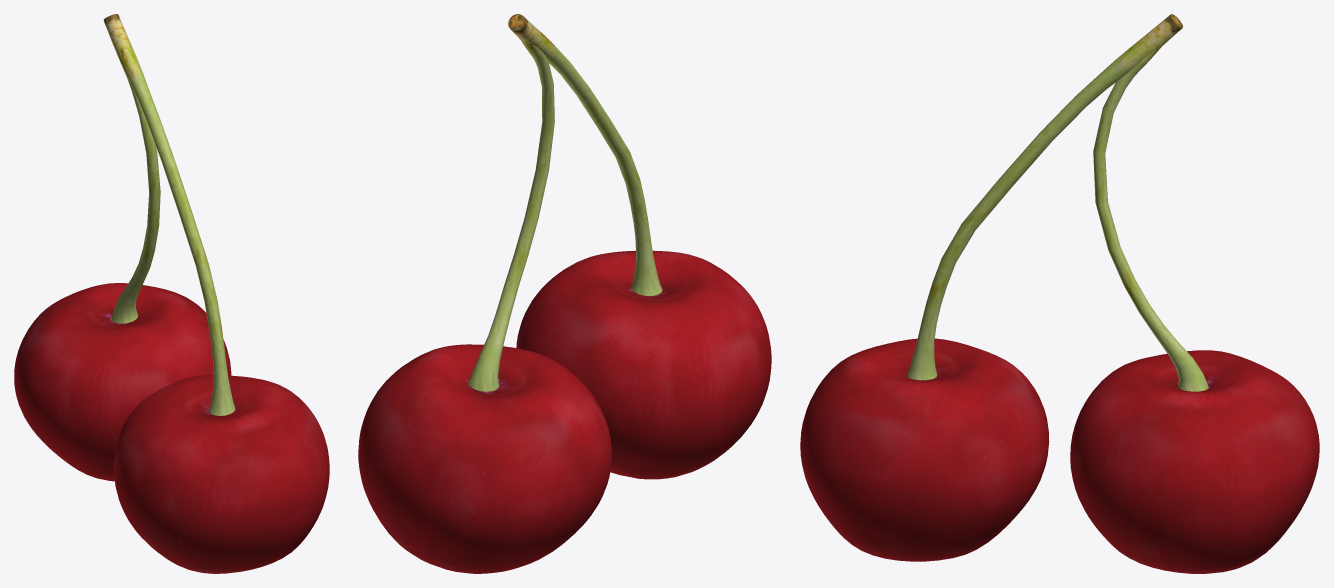
File: cherry.glb
3 views of the same model, side by side, from view 1: azimuth 30°, elevation 25°; view 2: azimuth 150°, elevation 25°; view 3: azimuth 270°, elevation 25° (orthographic). The views are drawn at different scales.
Parts seen in each view (by area): view 1: cherry.002; view 2: cherry.002; view 3: cherry.002.
Part boxes in pixels (x1=…): cherry.002: x1=14, y1=14, x2=329, y2=573; cherry.002: x1=358, y1=14, x2=771, y2=573; cherry.002: x1=800, y1=14, x2=1319, y2=573.
Bounding box in the file's own units: 0.0264 × 0.0565 × 0.0502.
Materials: 1 (1 with a texture image).
